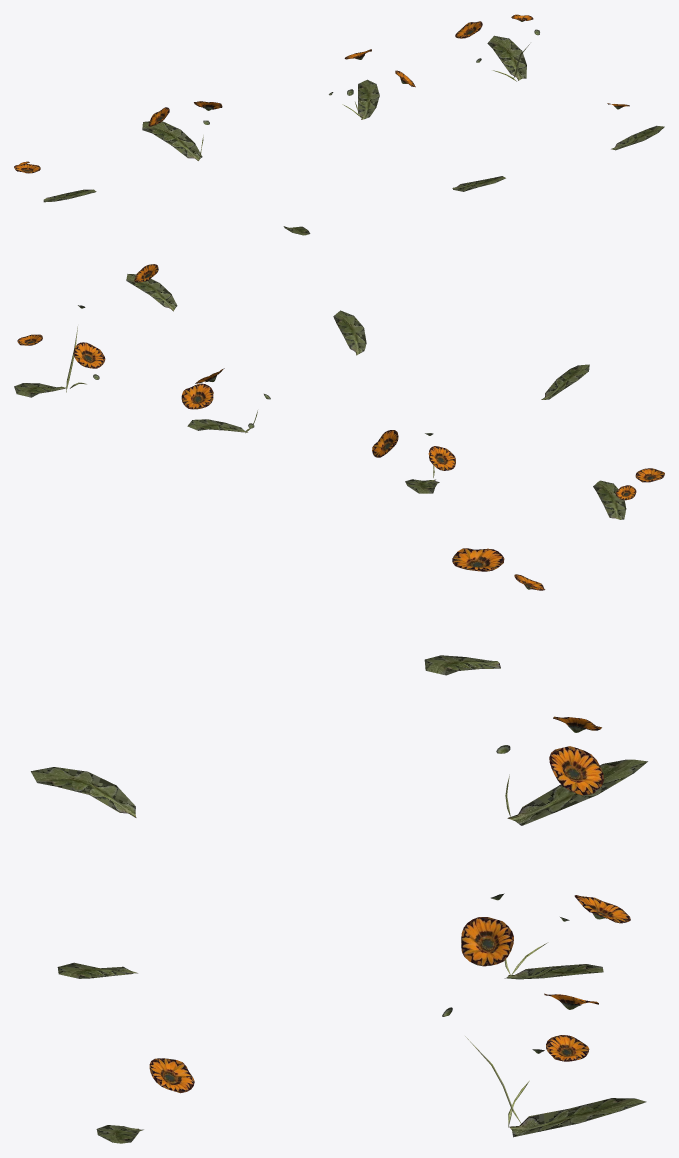
The model's file is flower_gazania.glb.
3 renders of one model, top to bottom at view 1: azimuth 30°, elevation 25°; view 2: azimuth 150°, elevation 25°; view 3: azimuth 270°, elevation 25°, orthographic. The views are drawn at different scales.
Parts seen in each view (by area): view 1: flower_gazania_a_LOD0; view 2: flower_gazania_a_LOD0; view 3: flower_gazania_a_LOD0.
Boxes of the visible parts, x1,y1,x2,y2 form: flower_gazania_a_LOD0: (14,14,664,235); flower_gazania_a_LOD0: (14,264,664,519); flower_gazania_a_LOD0: (31,548,647,1143).
Size of the model in its own units: 1.4 by 0.1517 by 0.6734.
1 material, 1 textured.
